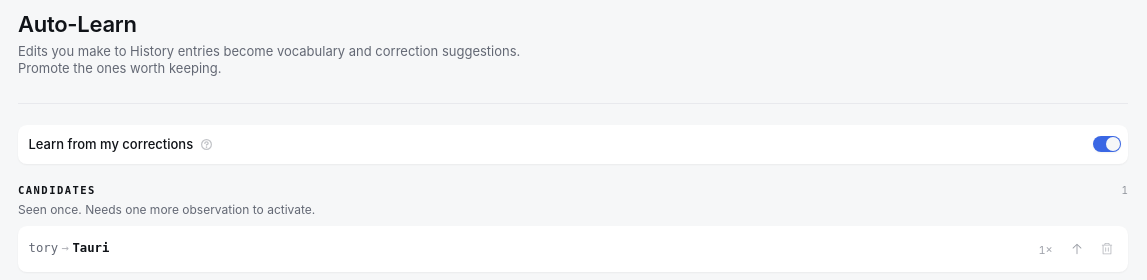
Test case: LearnedEntriesPage – promote › moves a promoted candidate into the Ready to use section and shows success toast
Expected: the heading "Candidates" is shown, [18,185,96,196]
Click the button named "Promote to permanent entry": point(1077, 249) [1063,235,1091,263]
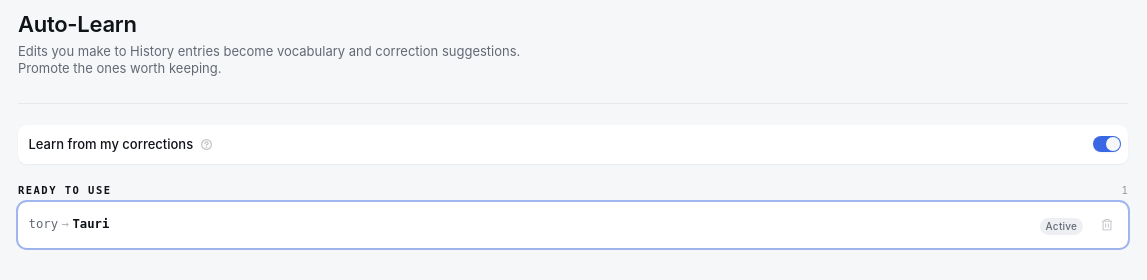
Expected: the heading "Ready to use" is shown, [18,185,112,196]
Expected: the heading "Candidates" is gone
